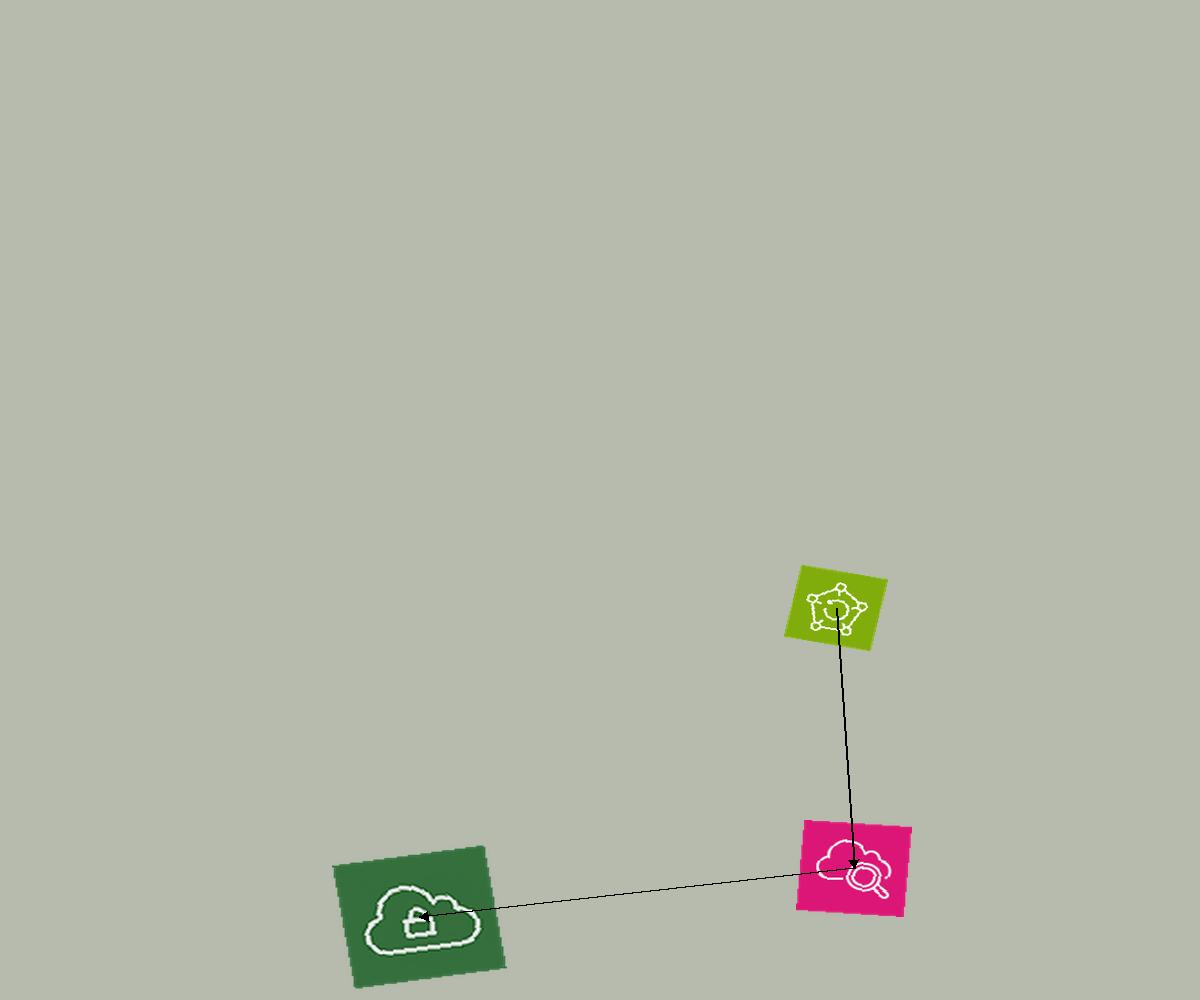AWS-Backup: (783, 564, 889, 652)
AWS-CloudWatch: (796, 820, 912, 917)
AWS-Private_vpc: (332, 844, 507, 990)
